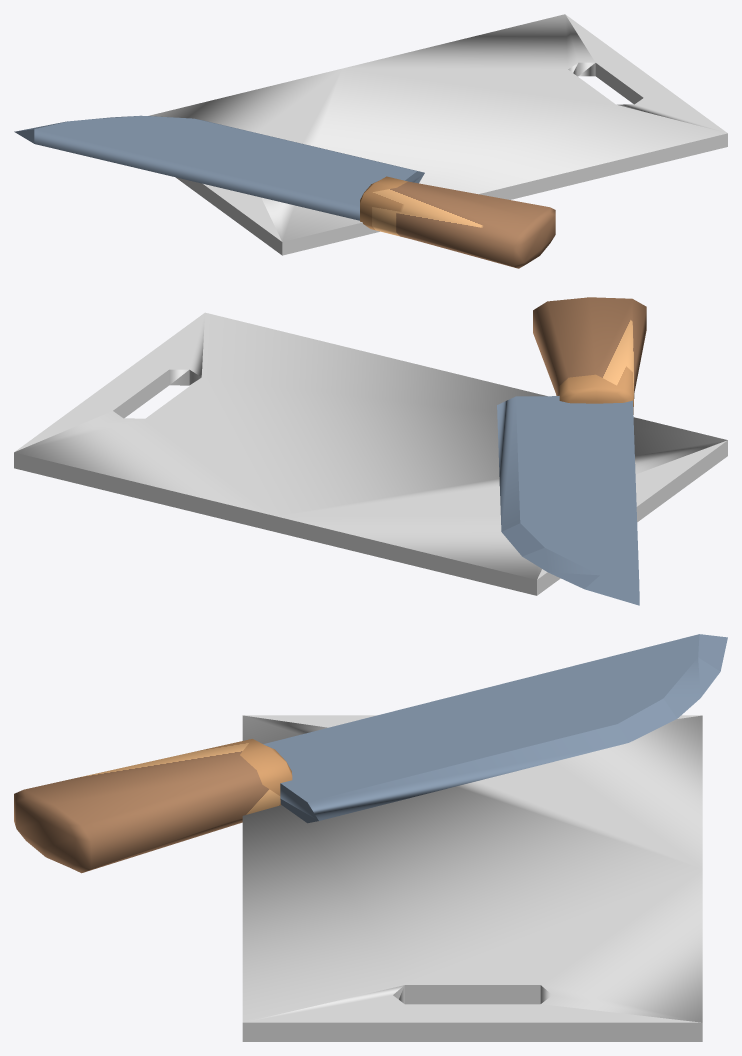
The model's file is cc0-cutting-table-lod1.glb.
The picture shows the model from 3 angles, top to bottom: view 1: azimuth 30°, elevation 25°; view 2: azimuth 150°, elevation 25°; view 3: azimuth 270°, elevation 25°; orthographic projection. The views are drawn at different scales.
Visible parts, largest first — view 1: part_0; view 2: part_0; view 3: part_0.
Boxes of the visible parts, x1,y1,x2,y2 form: part_0: (14, 14, 727, 268); part_0: (14, 297, 727, 605); part_0: (14, 634, 727, 1041).
Bounding box in the file's own units: 2.1 × 0.1515 × 1.69.
1 material, 1 textured.
